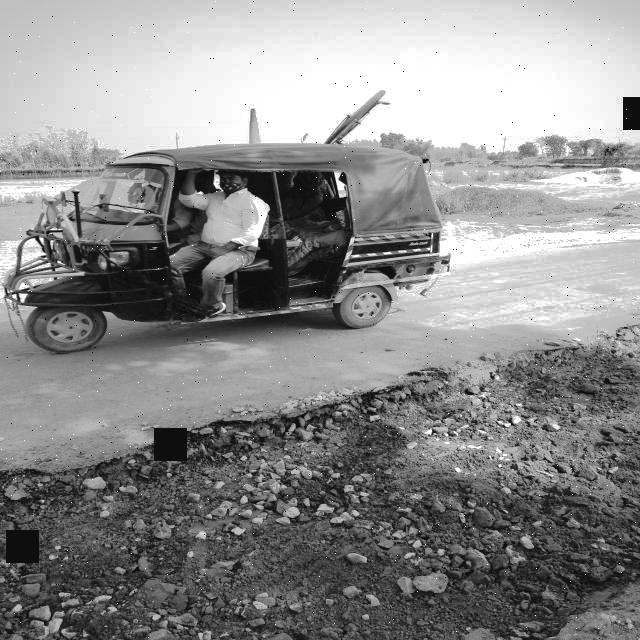Auto-Rickshaw: (11, 138, 464, 338)
